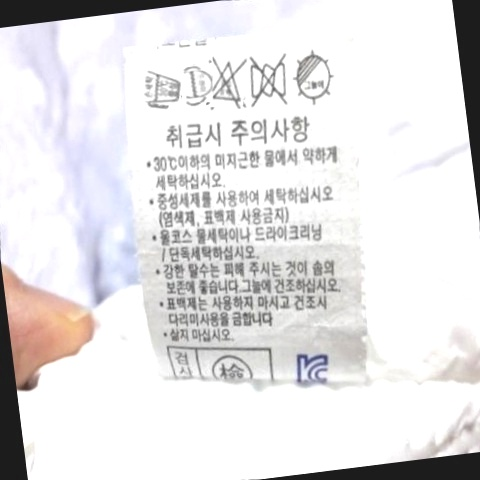DN_wring: (246, 52, 295, 106)
dry_clean: (179, 64, 213, 102)
hand_wash: (137, 62, 186, 109)
non_chlorine_bleach: (207, 53, 248, 107)
shade_dry: (289, 47, 341, 108)
